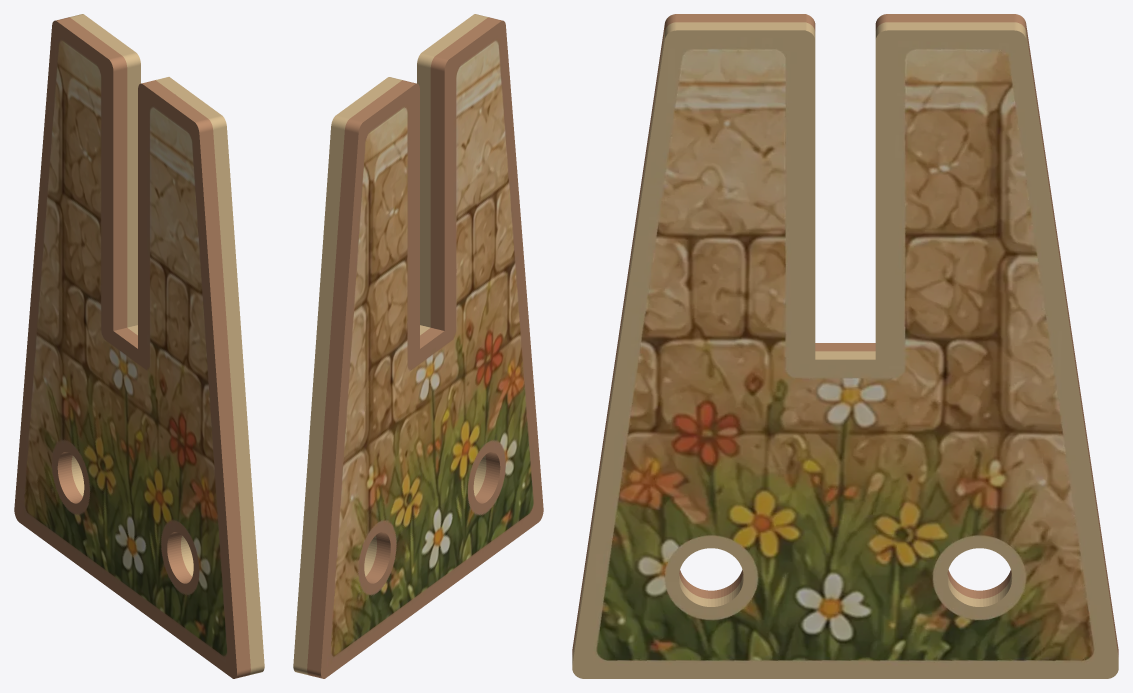
The model's file is bottom-stabilizer-01.glb.
The picture shows the model from 3 angles, left to right: view 1: azimuth 30°, elevation 25°; view 2: azimuth 150°, elevation 25°; view 3: azimuth 270°, elevation 25°; orthographic projection. The views are drawn at different scales.
Visible parts, largest first — view 1: bottom-stabilizer-01; view 2: bottom-stabilizer-01; view 3: bottom-stabilizer-01.
Part boxes in pixels (box(x1,y1,x2,y2)): bottom-stabilizer-01: box(14, 14, 264, 678); bottom-stabilizer-01: box(293, 14, 543, 678); bottom-stabilizer-01: box(572, 14, 1118, 678).
Bounding box in the file's own units: 18 × 330 × 252.
Materials: 4 (2 with a texture image).
